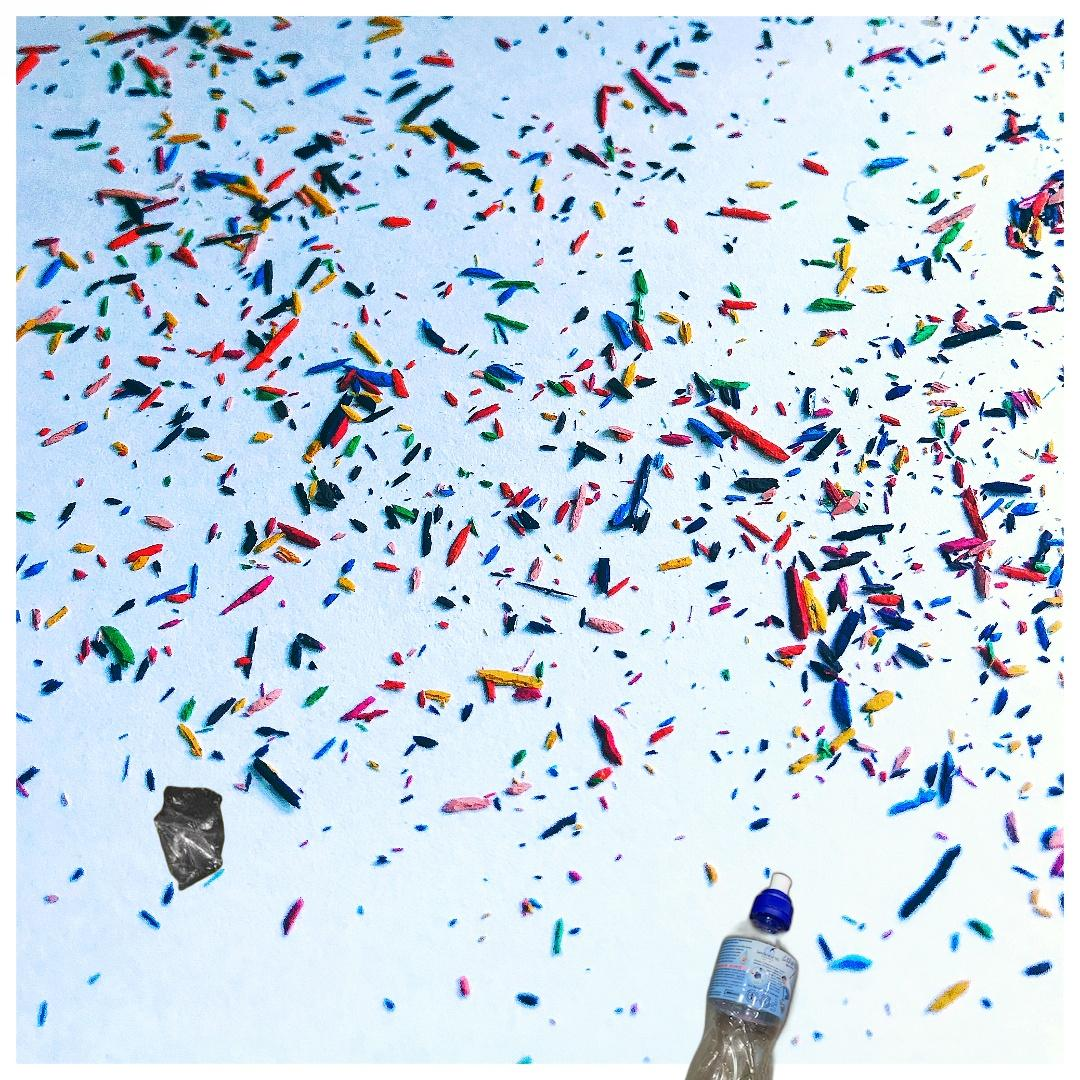plastic-bag: (151, 784, 227, 893)
plastic-bottles: (667, 868, 801, 1080)
